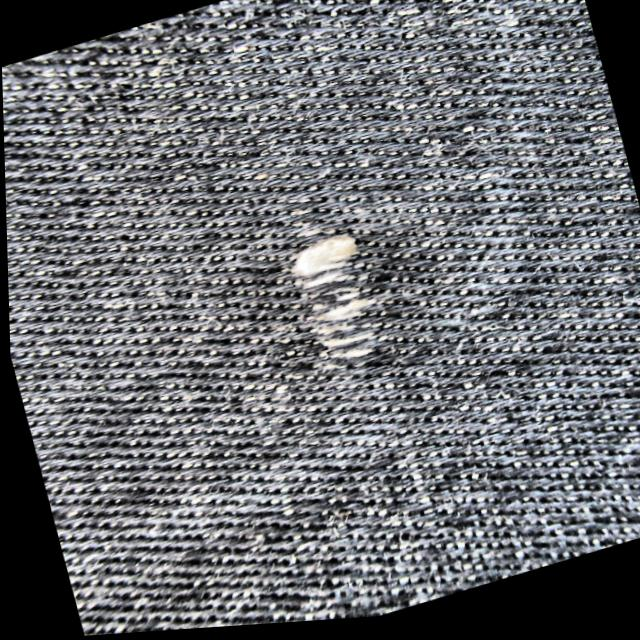Hole: (292, 238, 378, 375)
